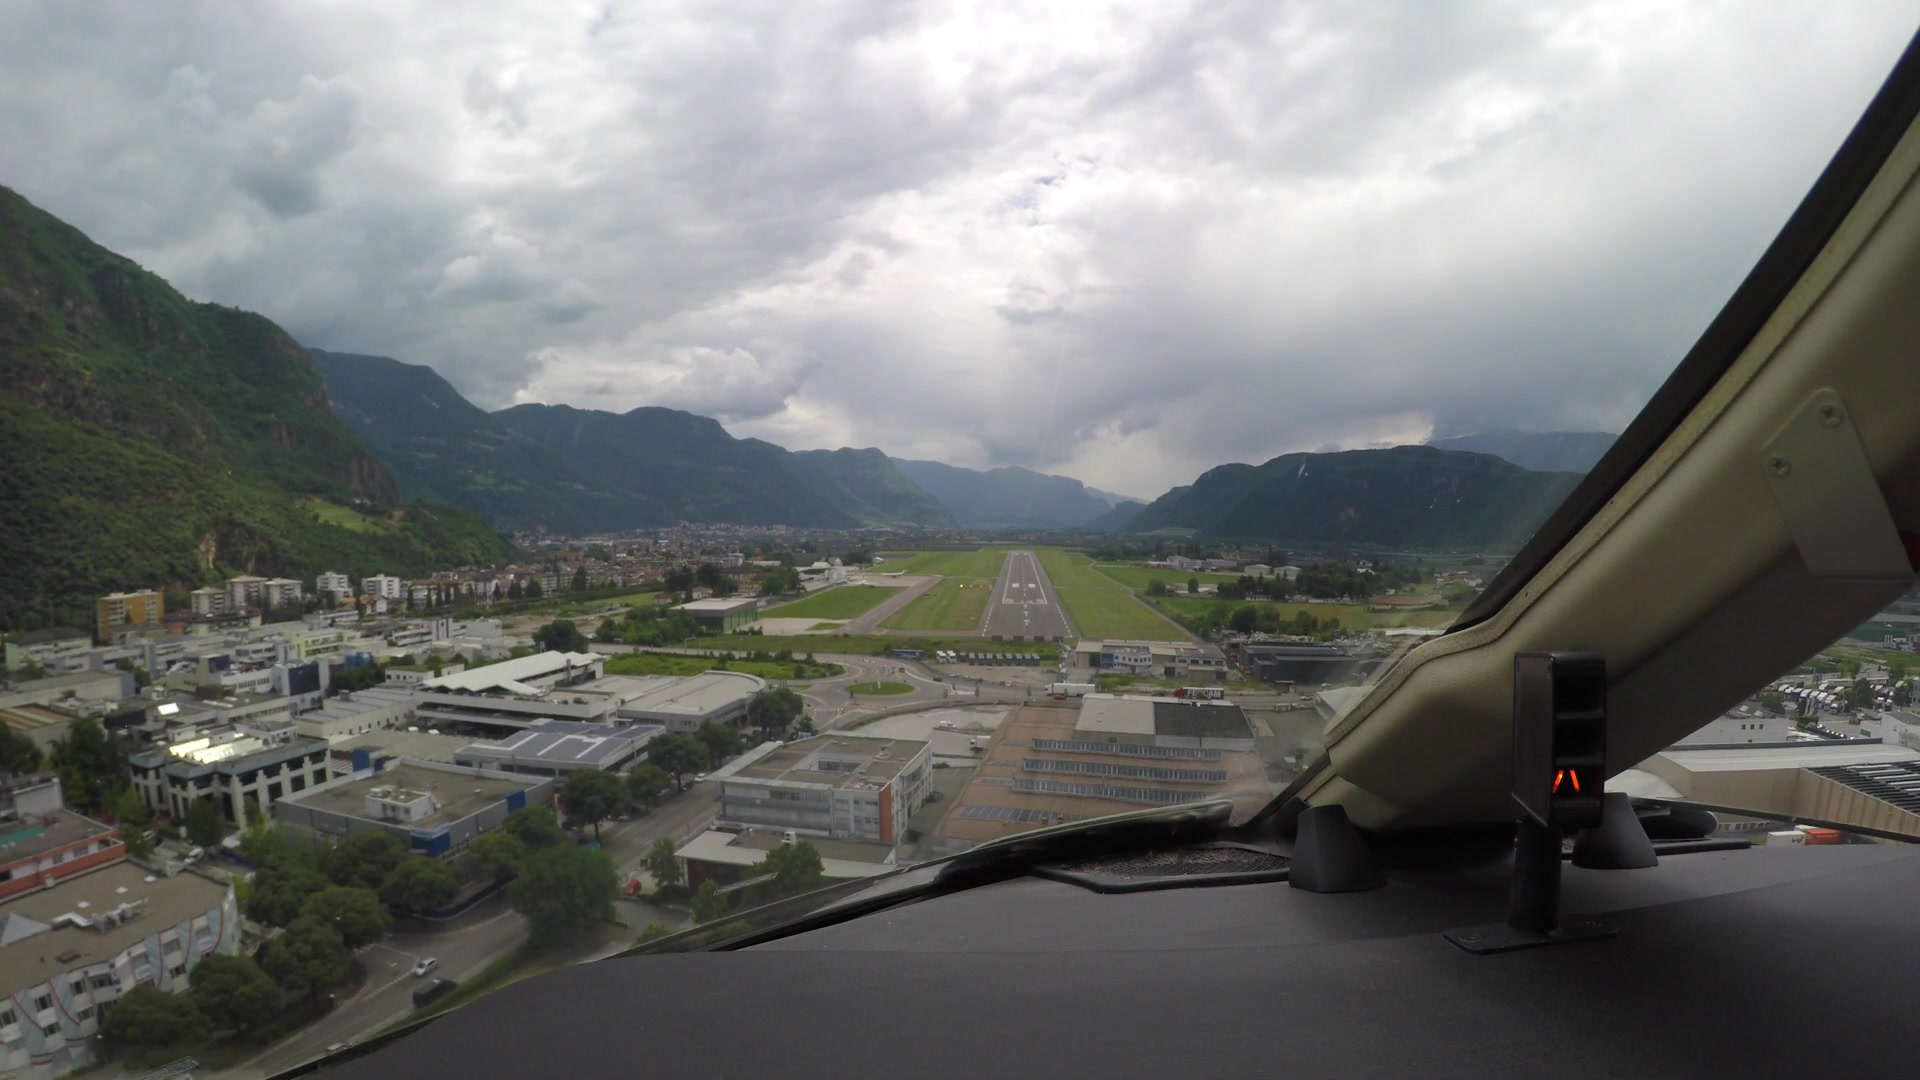entrance: (1001, 597, 1046, 605)
runway: (975, 550, 1079, 642)
